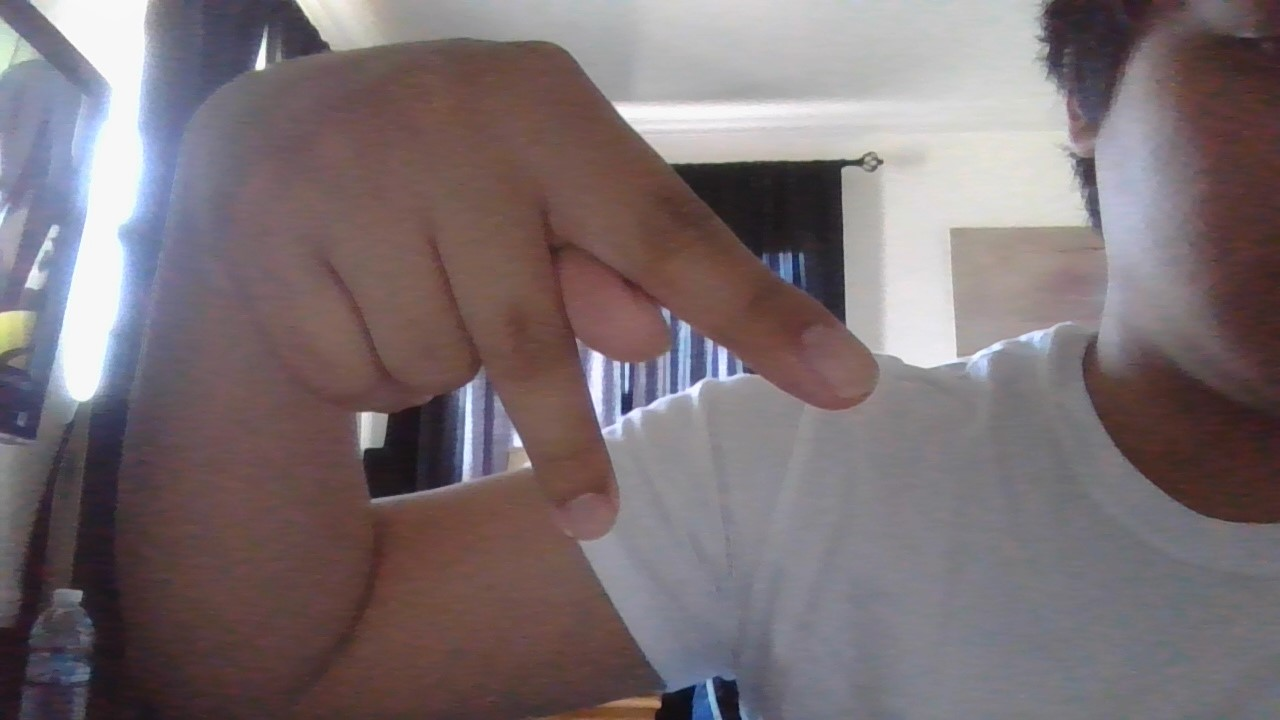p: (111, 41, 973, 588)
